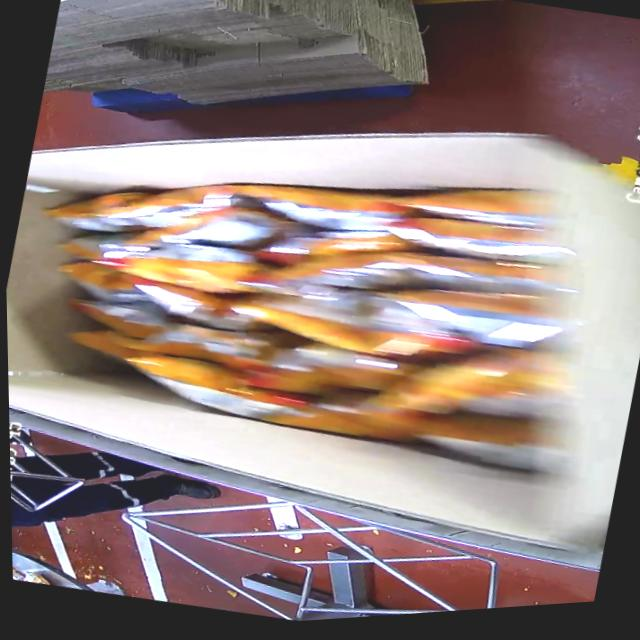FRENCH_CHEESE: (31, 108, 566, 498)
